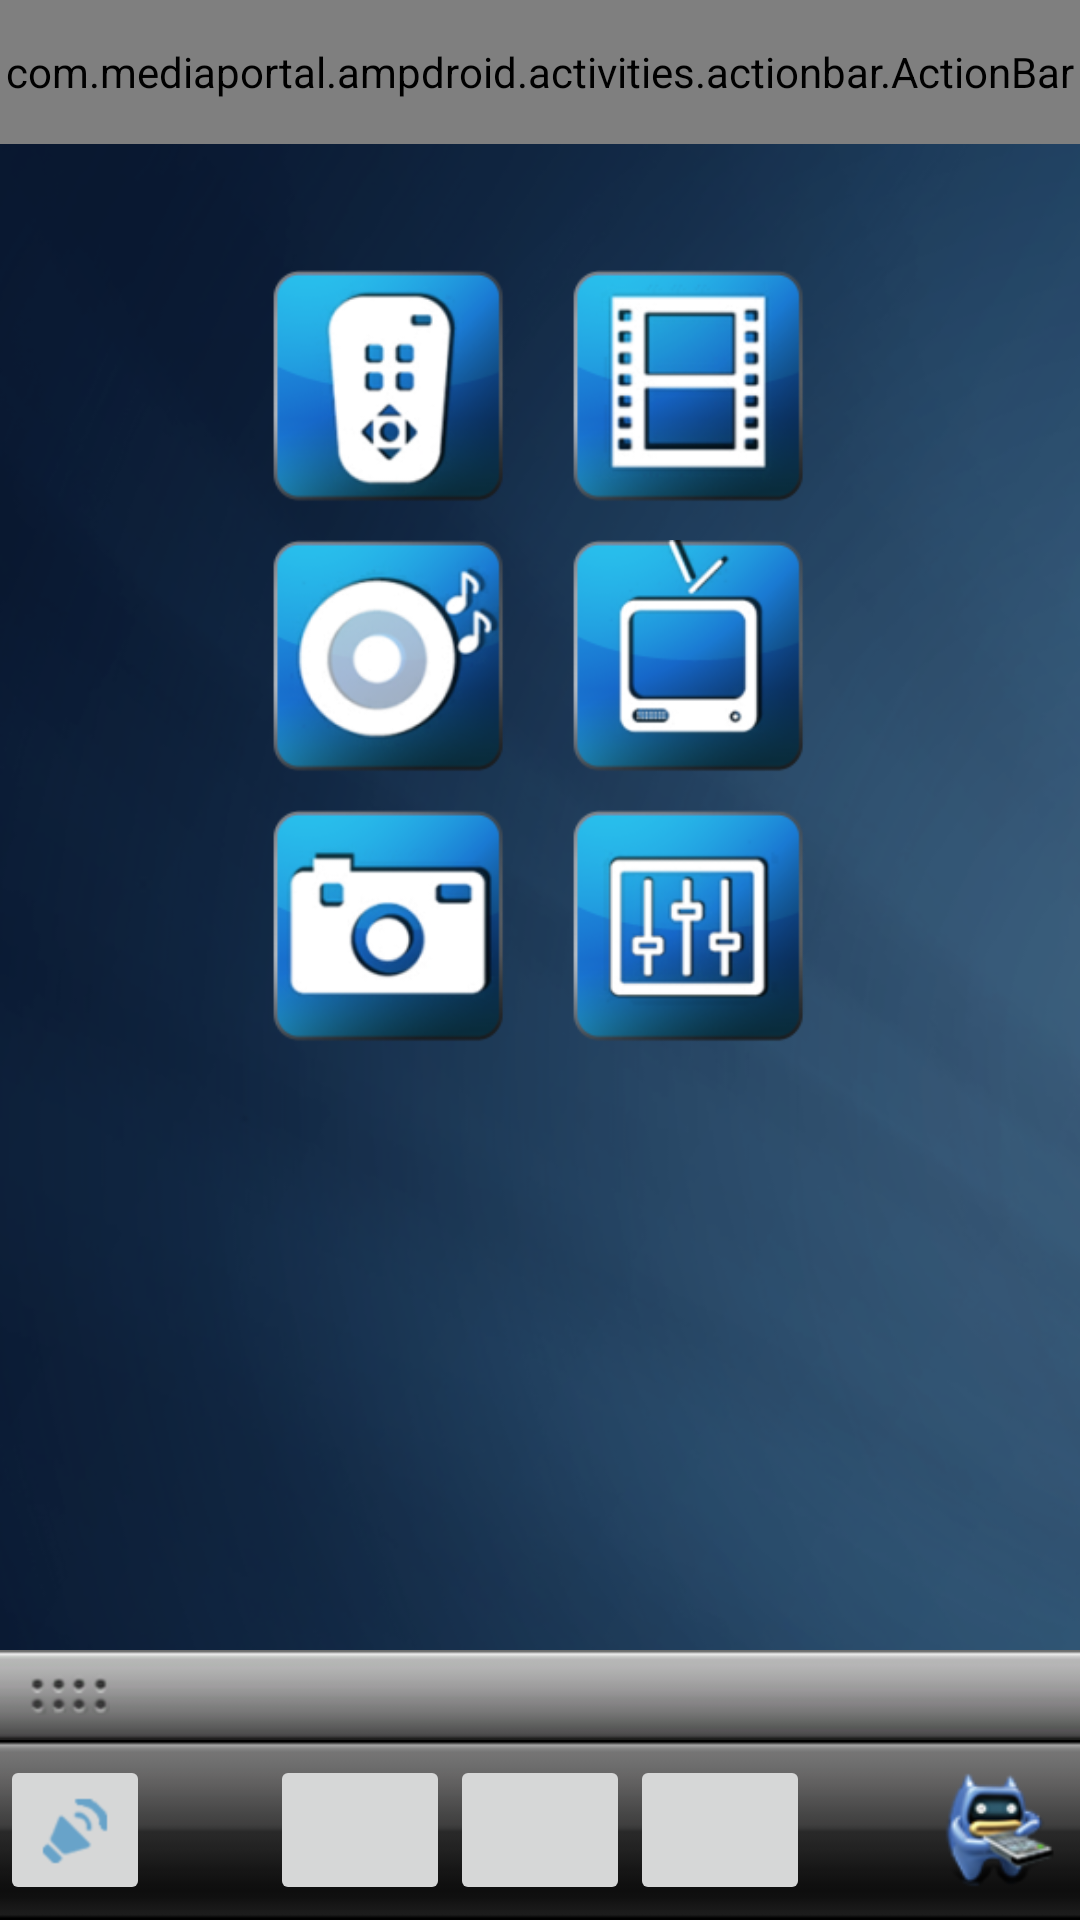

Icon click points for this 1080 × 1920 phone screenshot, format (x,y):
slidingdrawer: (70,1695)
volume: (75,1830)
